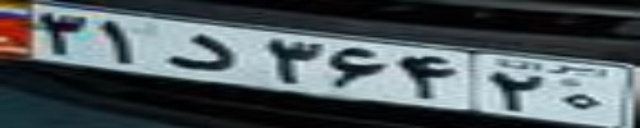0: (559, 92, 602, 111)
1: (96, 19, 134, 63)
2: (488, 70, 543, 112)
3: (267, 38, 322, 85), (37, 11, 90, 56)
4: (396, 52, 459, 99)
6: (324, 44, 388, 90)
dal: (167, 33, 234, 72)
